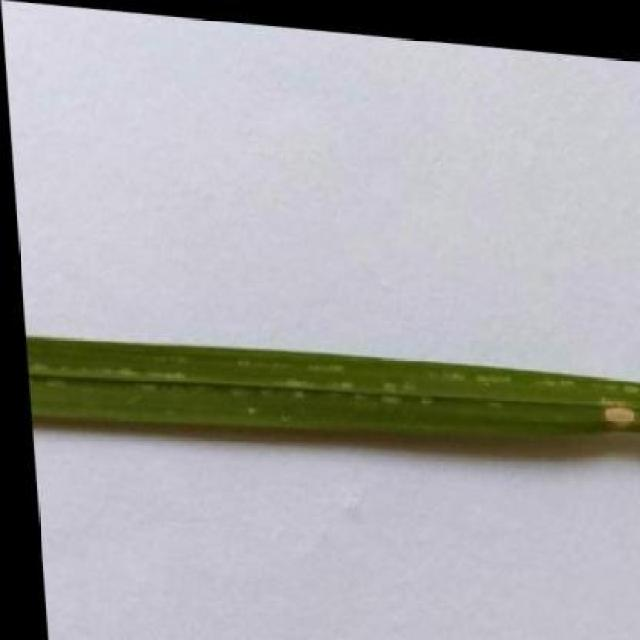Bacterial_Leaf_Blight: (593, 388, 639, 430)
Rice Tungro: (23, 323, 640, 462)
